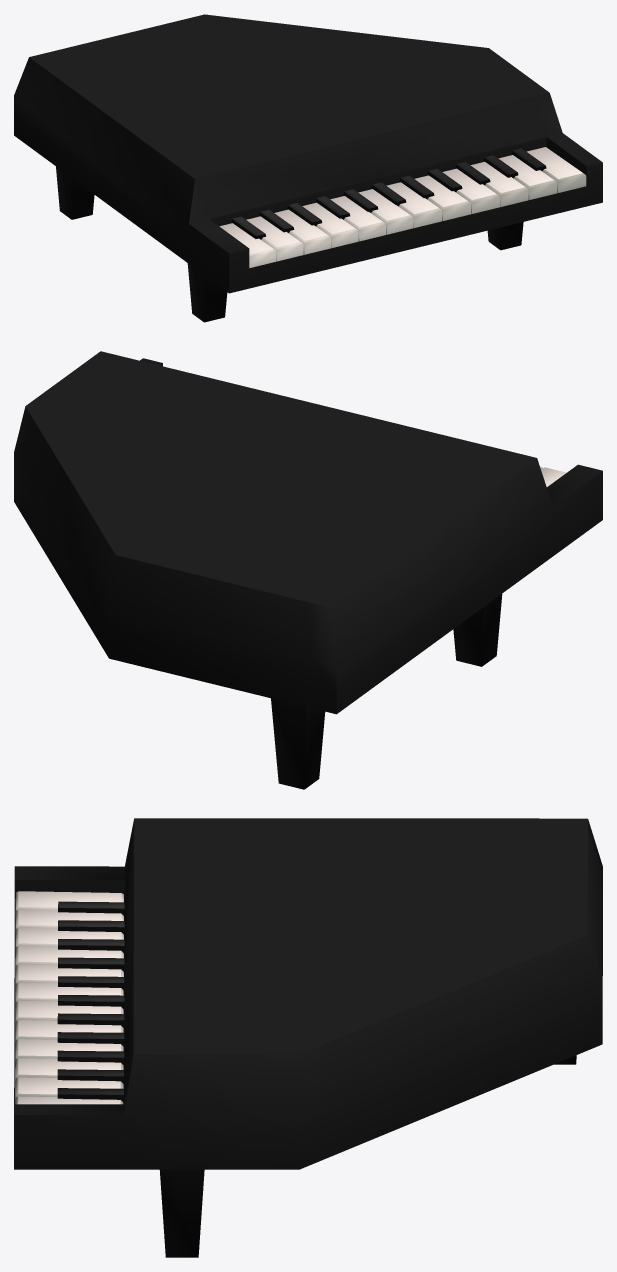
File: piano.fbx
3 views of the same model, one above another, from view 1: azimuth 30°, elevation 25°; view 2: azimuth 150°, elevation 25°; view 3: azimuth 270°, elevation 25° (orthographic). The views are drawn at different scales.
Parts seen in each view (by area): view 1: piano; view 2: piano; view 3: piano.
Part boxes in pixels (x1,y1,x2,y2): piano: [14, 14, 602, 322]; piano: [14, 351, 602, 789]; piano: [14, 818, 602, 1257].
Size of the model in its own units: 2 by 0.8047 by 2.
